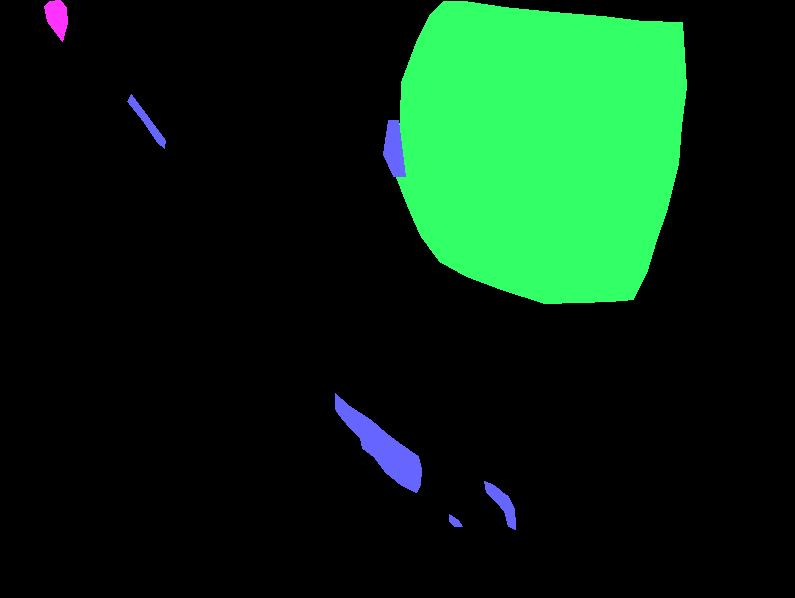Broken part: (394, 1, 686, 303)
Dent: (44, 0, 67, 41)
Scratch: (335, 393, 421, 492), (127, 94, 165, 148), (484, 481, 515, 529), (383, 120, 405, 176), (449, 514, 462, 526)
